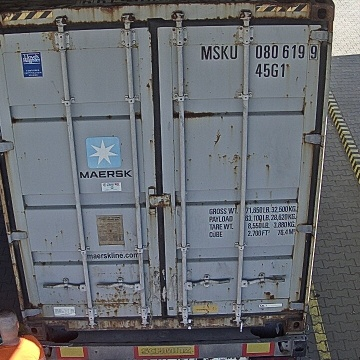serial_id: (201, 45, 318, 59)
